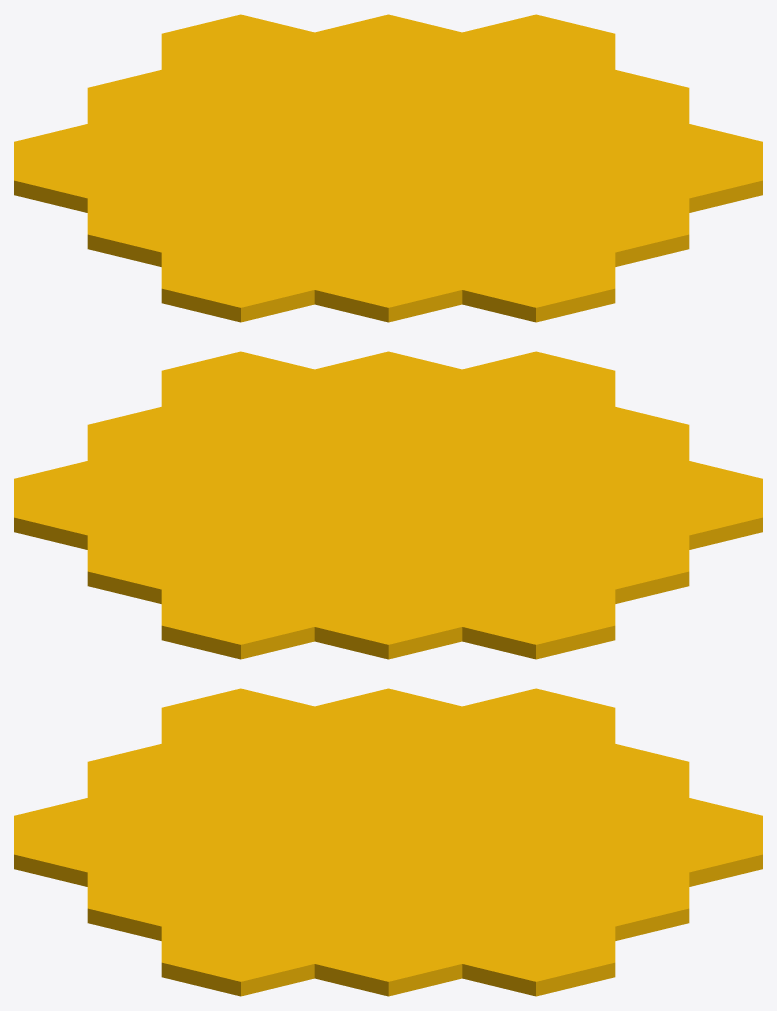
Rendered from Land_3.fbx.
3 renders of one model, top to bottom at view 1: azimuth 30°, elevation 25°; view 2: azimuth 150°, elevation 25°; view 3: azimuth 270°, elevation 25°, orthographic.
Visible parts, largest first — view 1: 개체_1; view 2: 개체_1; view 3: 개체_1.
Boxes of the visible parts, bbox=[...] form: 개체_1: bbox=[14, 14, 762, 322]; 개체_1: bbox=[14, 351, 762, 659]; 개체_1: bbox=[14, 688, 762, 996].
Bounding box in the file's own units: 129 × 139 × 3.
